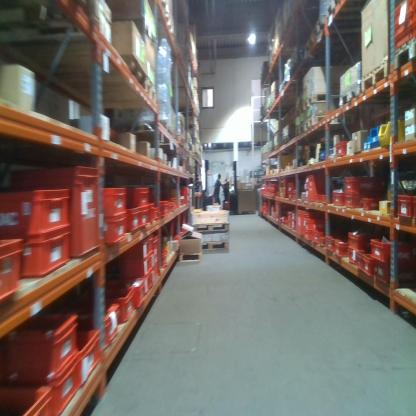pallet: (38, 62, 145, 97), (95, 18, 158, 53), (92, 78, 158, 111), (302, 13, 327, 63), (361, 60, 392, 95), (303, 88, 341, 112), (393, 39, 415, 72), (325, 0, 358, 21), (303, 113, 335, 133), (340, 83, 362, 111), (191, 222, 229, 233), (202, 242, 229, 251), (295, 123, 305, 141), (295, 101, 304, 120), (281, 138, 292, 147)
pallet_truck: (221, 158, 242, 212), (203, 159, 218, 207)
small_load_carrier: (20, 161, 102, 270), (4, 313, 80, 384), (2, 184, 69, 242), (23, 232, 72, 280), (70, 321, 101, 393), (74, 304, 122, 348), (1, 382, 55, 416), (369, 234, 414, 267), (0, 234, 22, 301), (54, 359, 81, 412), (98, 280, 145, 310), (374, 258, 414, 289), (99, 287, 133, 323), (98, 210, 129, 248), (119, 272, 152, 303), (343, 175, 381, 196), (304, 171, 322, 211), (107, 185, 129, 217), (121, 240, 150, 260), (119, 257, 151, 274), (126, 187, 150, 209), (396, 190, 413, 218), (311, 233, 331, 256), (347, 233, 368, 254), (391, 30, 412, 51), (127, 210, 142, 237), (362, 256, 378, 280), (345, 194, 368, 210), (361, 196, 382, 212), (393, 21, 408, 42), (336, 237, 350, 259), (393, 10, 408, 30), (303, 217, 322, 231), (140, 205, 151, 228), (159, 199, 170, 221), (347, 247, 359, 267), (330, 192, 346, 207), (335, 143, 351, 158), (394, 2, 408, 19), (155, 232, 159, 283), (298, 209, 305, 236), (326, 234, 334, 256), (357, 251, 364, 273), (151, 202, 158, 222), (319, 236, 328, 250), (303, 230, 312, 244), (148, 234, 154, 252), (162, 250, 168, 268), (151, 248, 155, 273), (410, 13, 416, 27), (317, 191, 322, 207), (287, 181, 294, 191), (287, 190, 294, 199), (291, 221, 296, 233), (410, 2, 416, 12), (411, 25, 415, 40), (292, 190, 299, 198), (321, 194, 327, 203), (291, 209, 297, 218), (414, 195, 416, 222), (288, 210, 292, 219), (288, 219, 291, 229)
